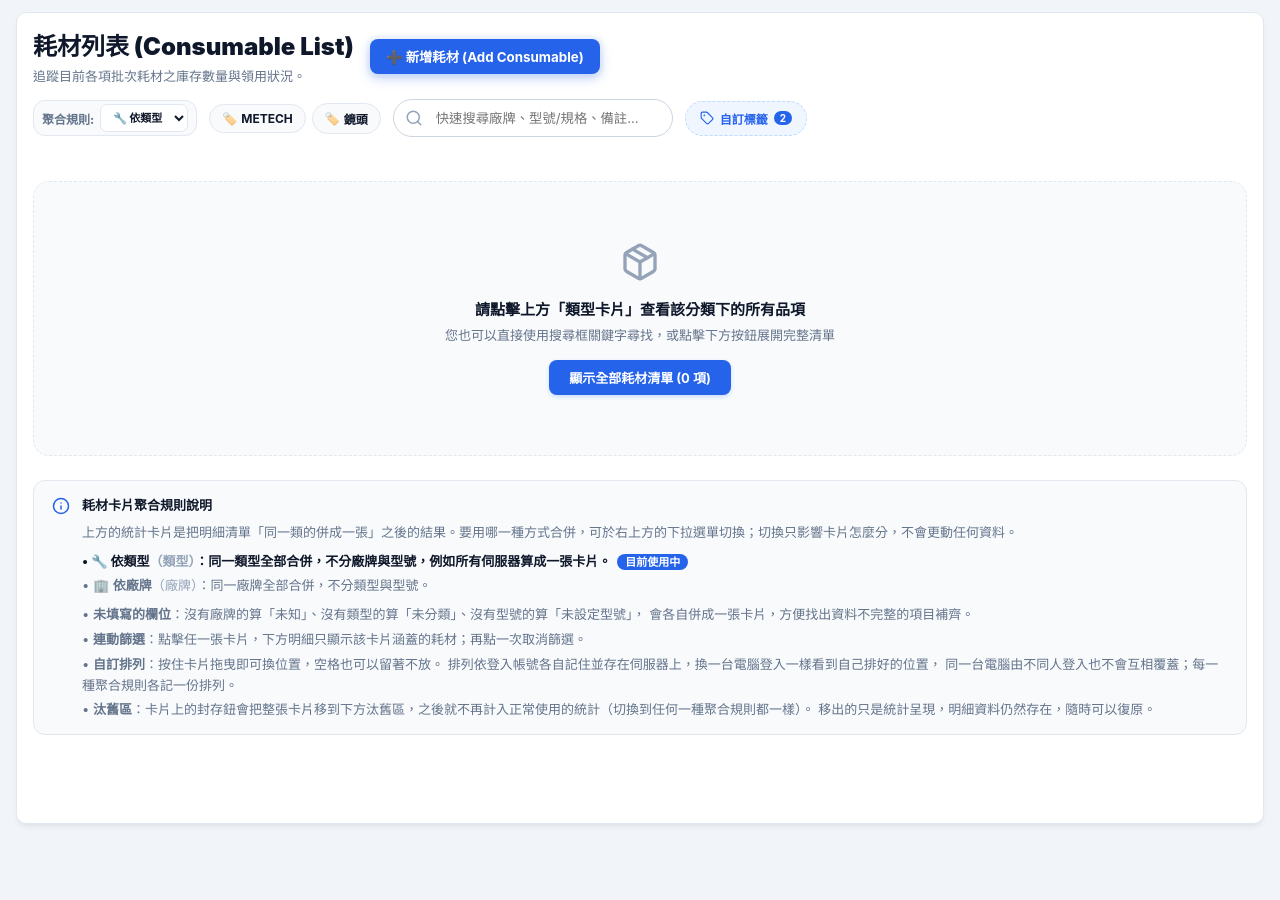
Scenario: ConsumableList 自訂標籤整合 › 從「自訂標籤」新增後存進帳號，列表上馬上出現
Expected: the button with test id "custom-tag-btn-METECH" is shown, [209,104,306,132]
Step 1. Click the button with test id "open-custom-tags-btn" → (746, 118), box [685,100,807,136]
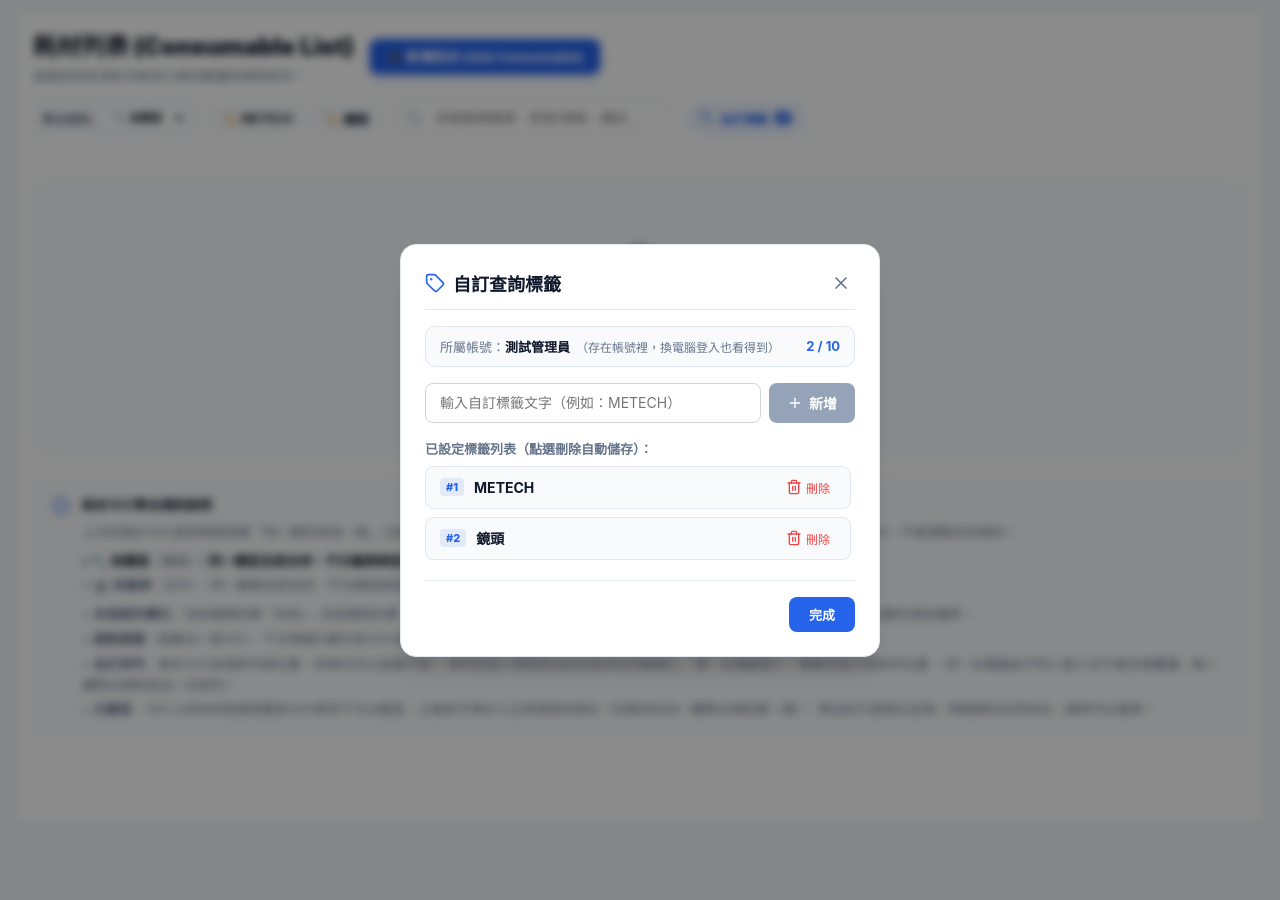
Now the text "測試管理員" is shown, box [505,338,570,354]
Step 2. Type "光纖" into the field with placeholder "輸入自訂標籤文字（例如：METECH）" → (593, 402), box [425,382,761,422]
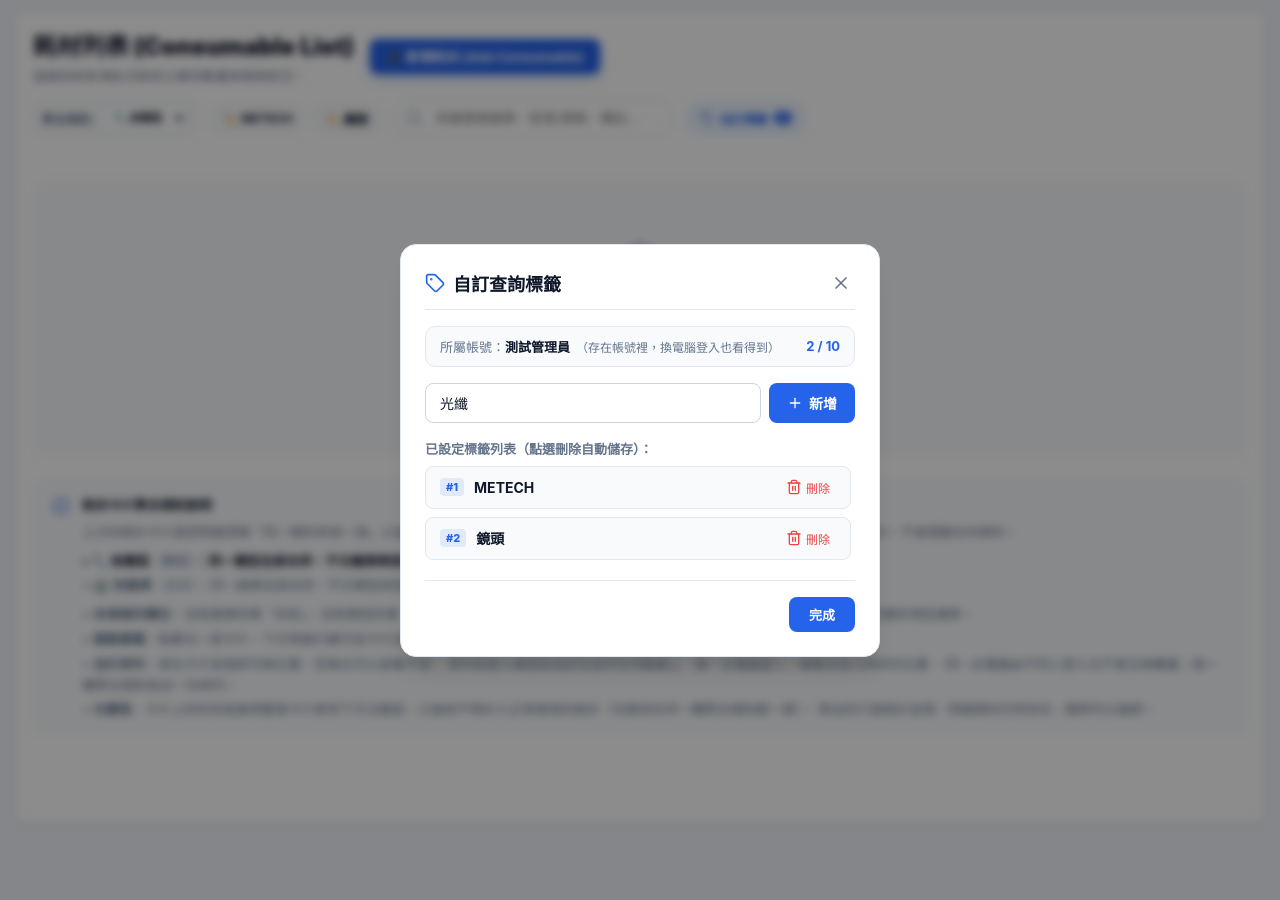
Step 3. Click the button "新增" → (812, 402), box [769,382,855,422]
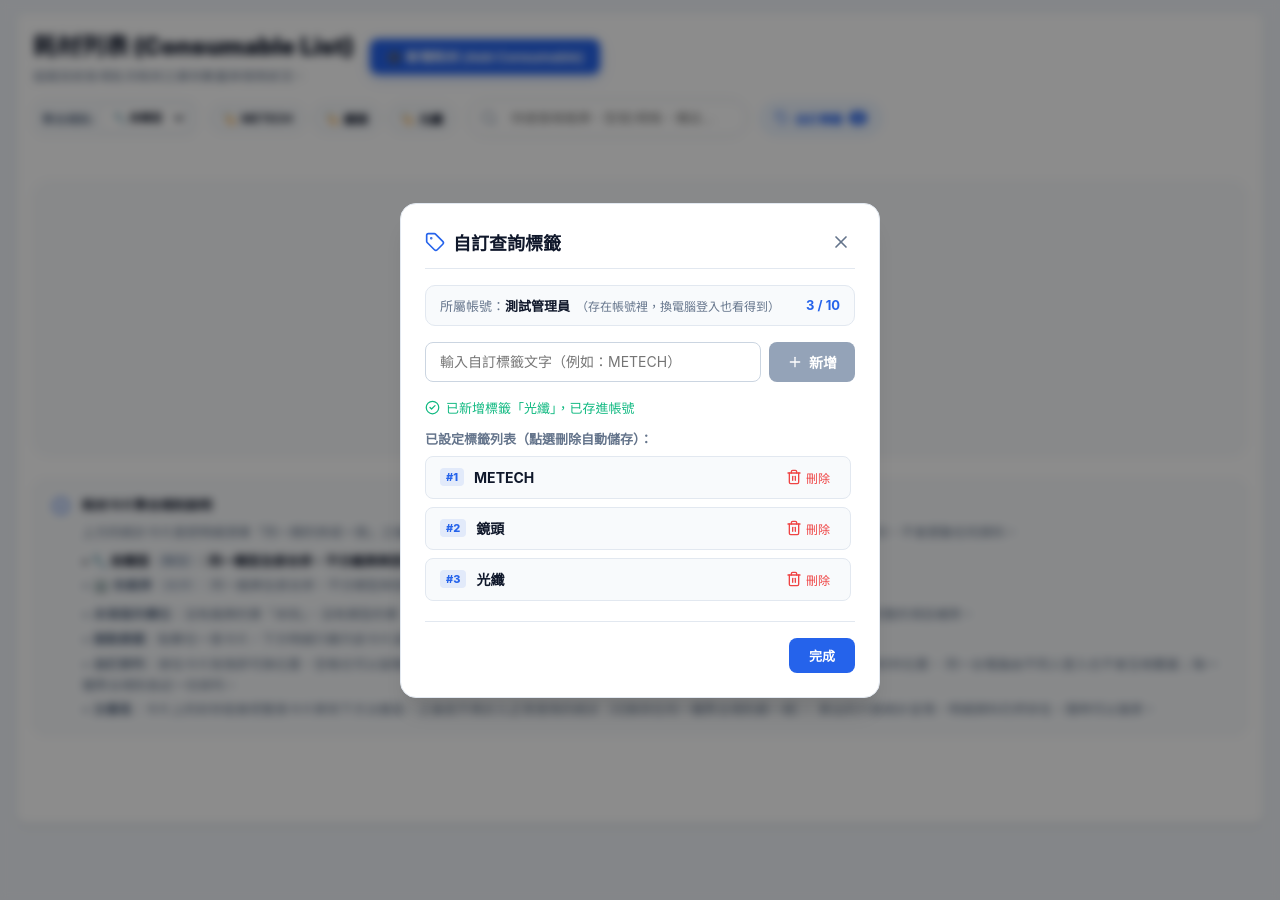
Now the button with test id "custom-tag-btn-光纖" is shown, box [387,102,456,134]
